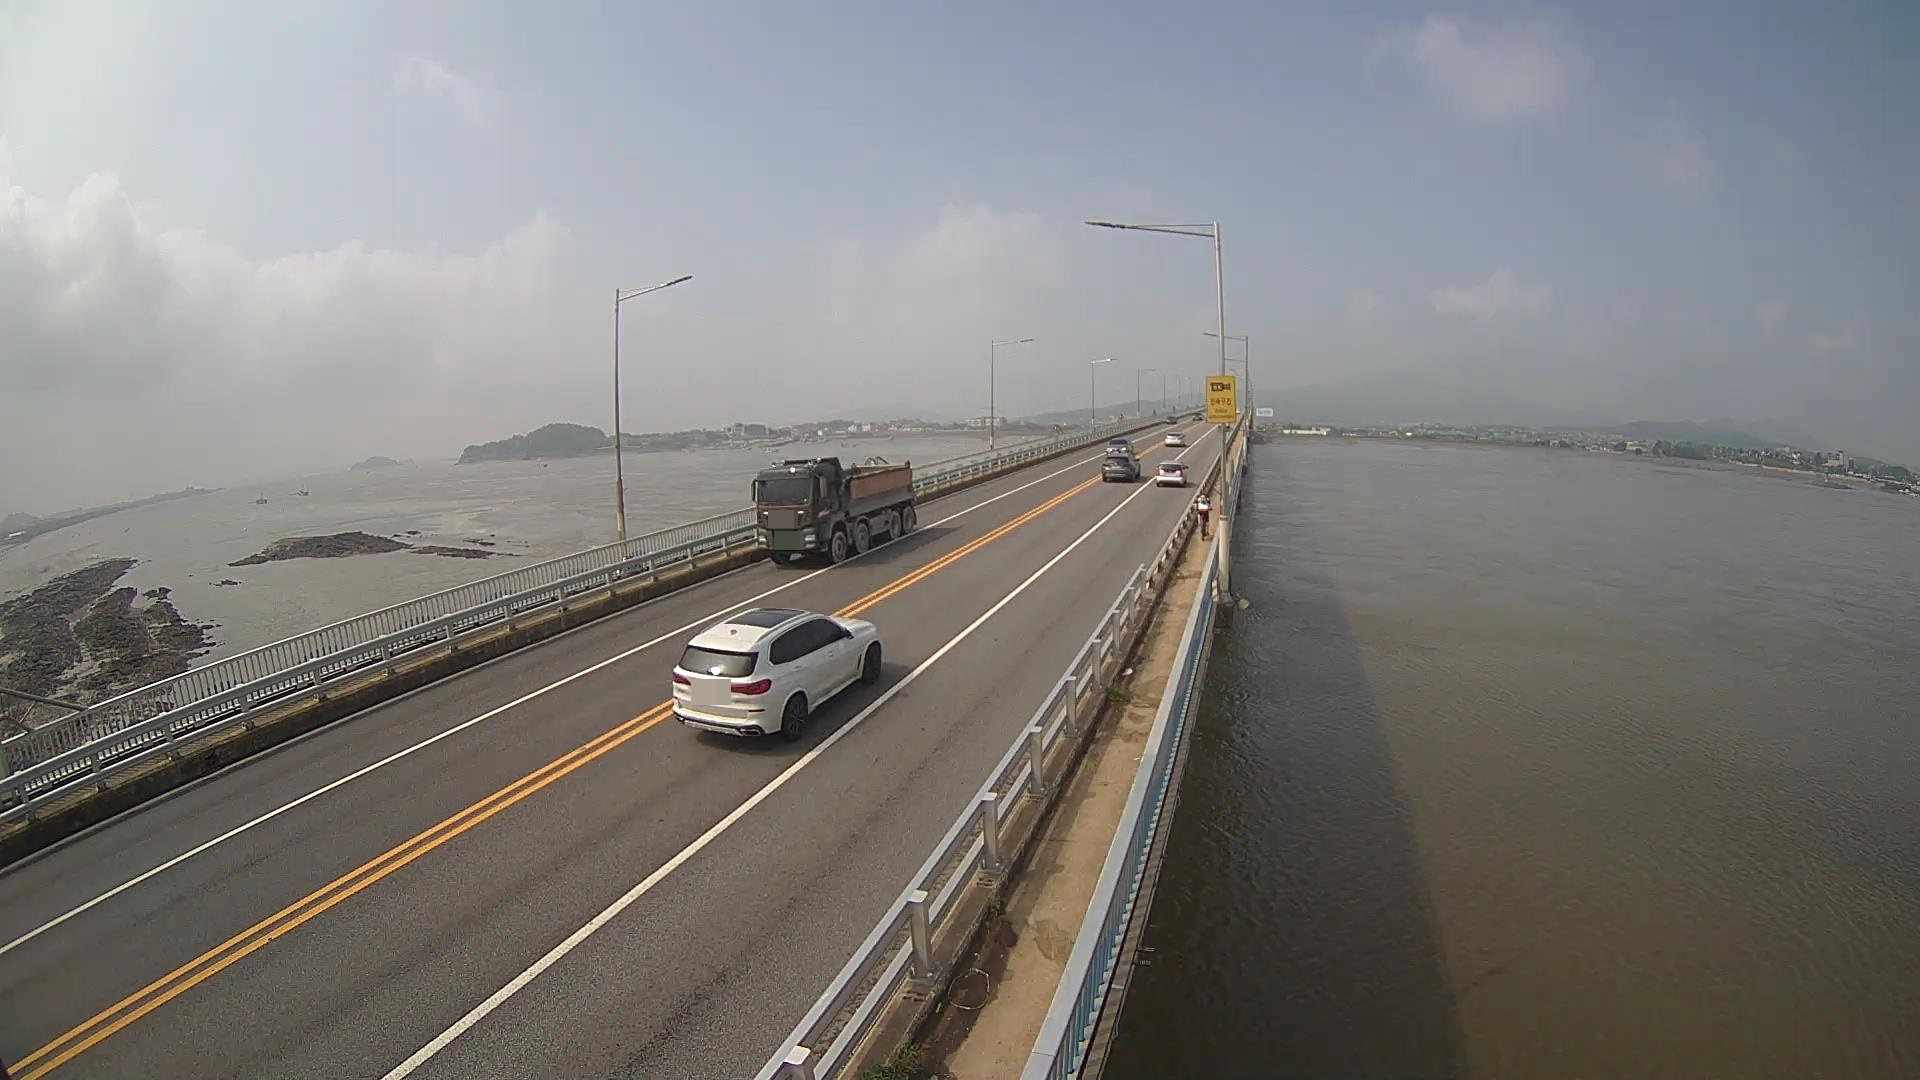정상차량: (752, 457, 917, 564)
